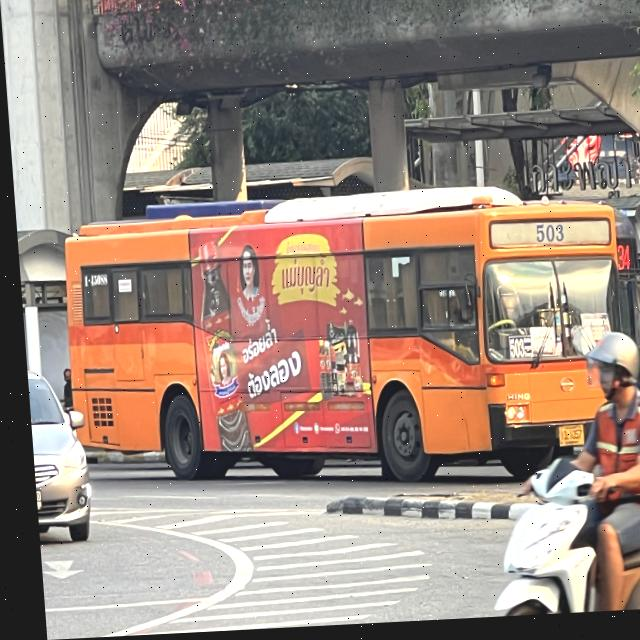BMTA-bus: (52, 186, 635, 504)
Bus-Line-Number: (528, 225, 563, 251)
Destination-Sign-Normal: (576, 316, 606, 346)
